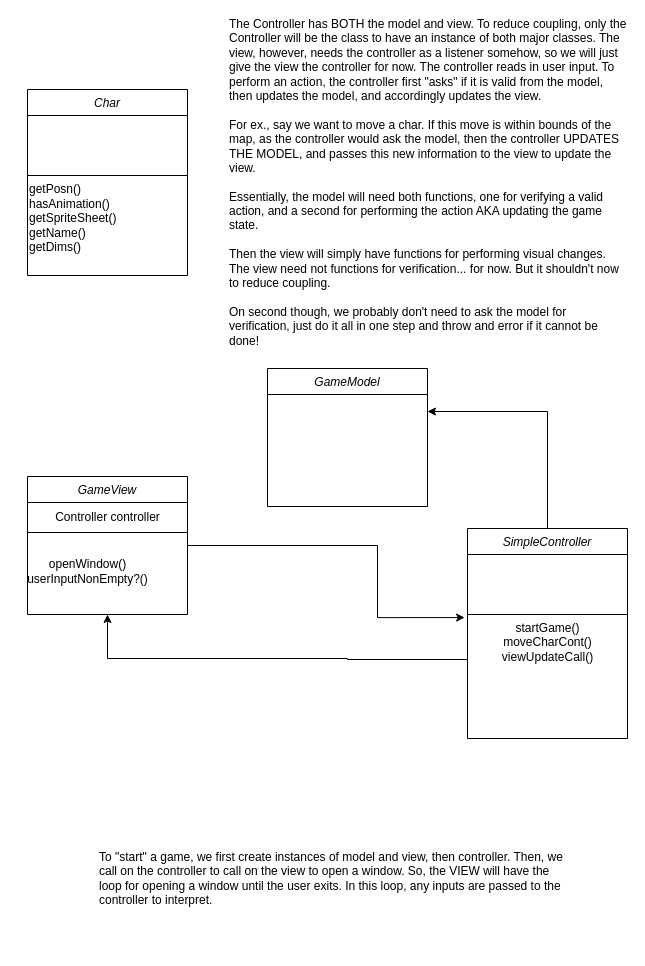
The diagram is 645 pixels wide and 966 high, and some of its shapes have lost their labels. The shapes that lost their labels are listed below. From the top down, each one's centre as x and y in pixels, then its label:
At point 107,145: "Posn Map[Animation : filepath] Name".
At point 547,584: "GameModel model GameView view".
